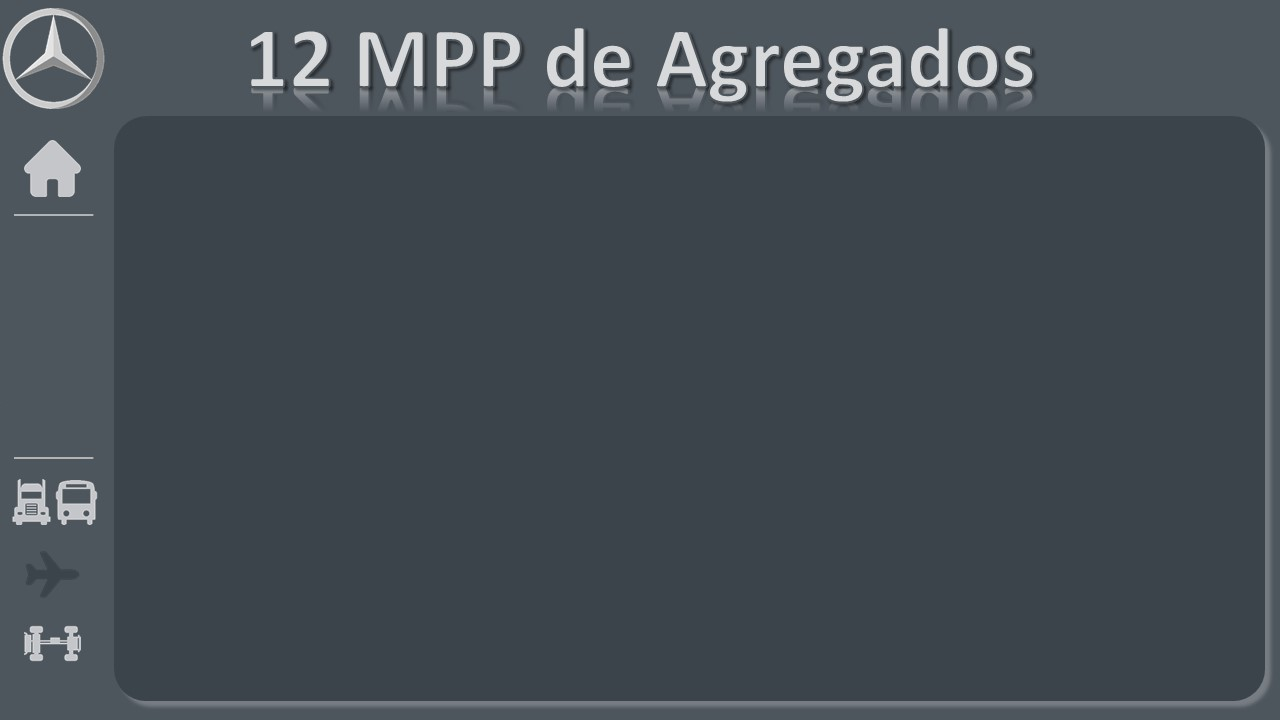

The page's visual inventory and layout, read from the dashboard file:
{"tool":"powerbi","page":{"name":"HomePage","canvas":[1280,720],"ordinal":0},"visuals":[{"type":"actionButton","box":[198.9,360.1,229,86.7],"z":0},{"type":"actionButton","box":[198.9,461.9,229,72.6],"z":1000},{"type":"actionButton","box":[198.9,555.2,240.4,80.1],"z":2000},{"type":"actionButton","box":[570.3,360.1,229,86.7],"z":3000},{"type":"actionButton","box":[566.5,461.9,229,72.6],"z":4000},{"type":"actionButton","box":[570.3,555.2,240.4,80.1],"z":5000},{"type":"actionButton","box":[934.1,360.1,229,86.7],"z":6000},{"type":"actionButton","box":[931.3,461.9,229,72.6],"z":7000},{"type":"actionButton","box":[936,555.2,240.4,80.1],"z":8000}]}

Visuals, with their boxes in screenshot pixels (x1, y1, x2, y2), scaled from the page's 1280x720 canvas onto the 1280x720 screenshot:
actionButton: l=199, t=360, r=428, b=447
actionButton: l=199, t=462, r=428, b=534
actionButton: l=199, t=555, r=439, b=635
actionButton: l=570, t=360, r=799, b=447
actionButton: l=566, t=462, r=796, b=534
actionButton: l=570, t=555, r=811, b=635
actionButton: l=934, t=360, r=1163, b=447
actionButton: l=931, t=462, r=1160, b=534
actionButton: l=936, t=555, r=1176, b=635
